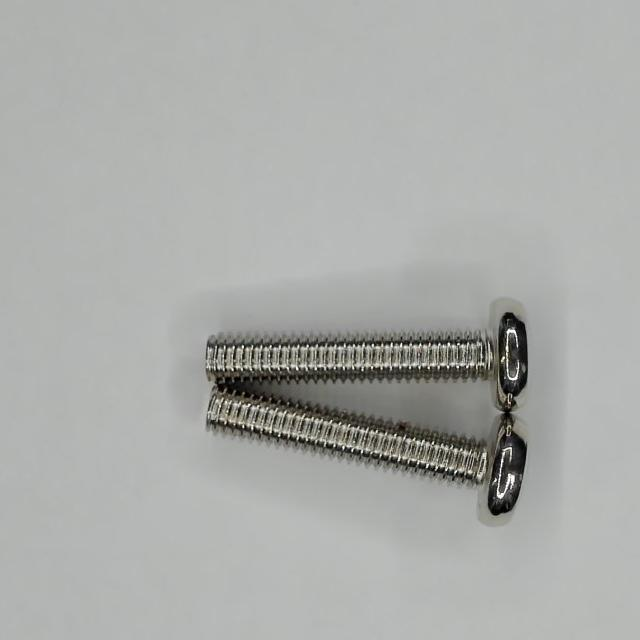Screw: (207, 385, 528, 516), (206, 301, 529, 412)
